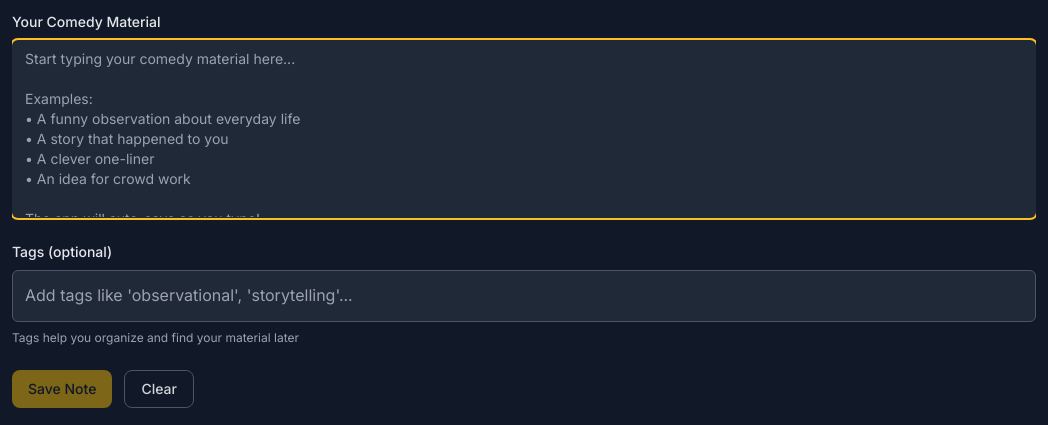
it: TextCapture › should handle tag input
Step 1. Type "comedy" into the field with placeholder "Add tags like 'observational', 'storytelling'..." → (524, 296), box x1=25 y1=283 x2=1023 y2=309
Then press Enter
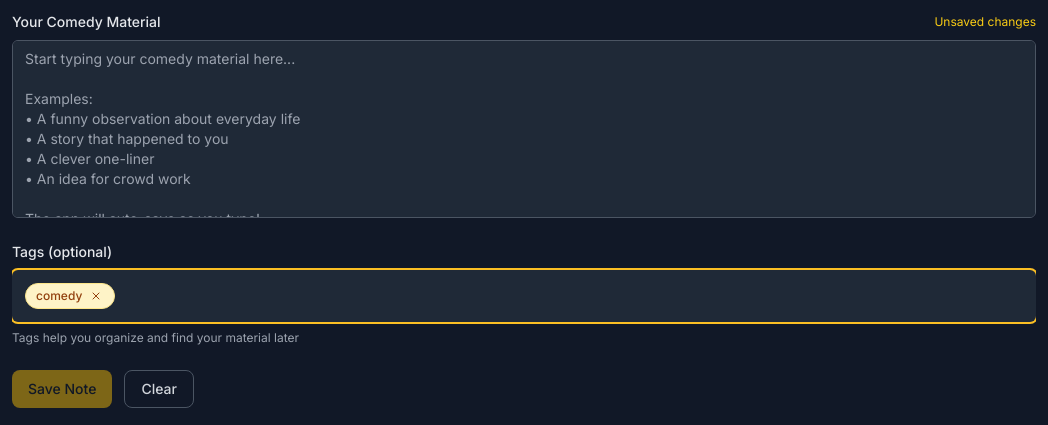
Expected: the text "comedy" is shown, x1=25 y1=283 x2=115 y2=309
